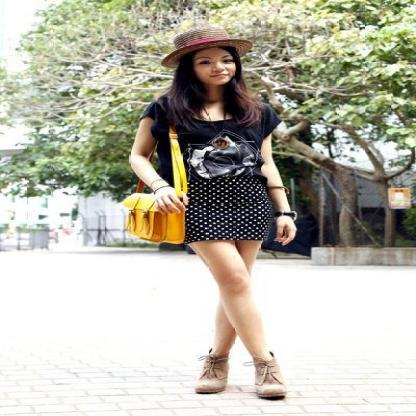bag: (123, 141, 188, 240)
dress: (143, 92, 288, 242)
hat: (174, 26, 258, 58)
shoe: (196, 341, 291, 400)
